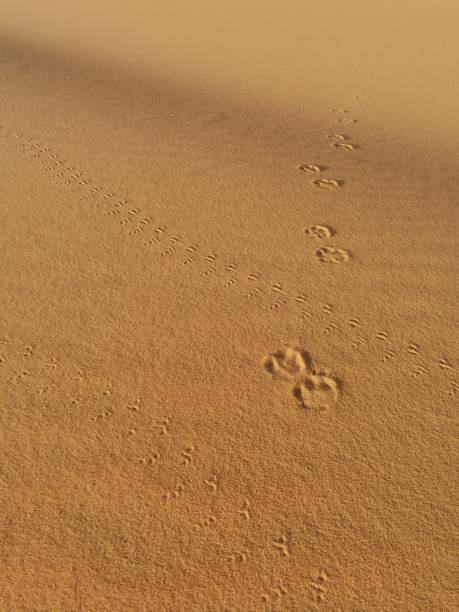animal_foot_print: (263, 347, 339, 408), (293, 371, 338, 408), (263, 347, 310, 379), (309, 570, 328, 603), (315, 245, 349, 263), (262, 581, 287, 605), (305, 225, 335, 239), (312, 178, 343, 189), (297, 164, 325, 173), (331, 142, 358, 150), (406, 342, 420, 356), (336, 116, 357, 124), (269, 299, 284, 310), (327, 134, 348, 141), (347, 317, 360, 327), (321, 303, 332, 314), (376, 331, 388, 340), (294, 294, 306, 303), (247, 273, 259, 281)
